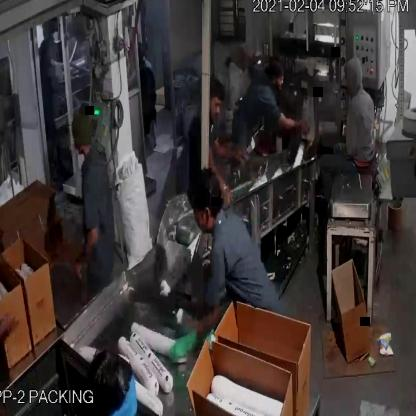glove: (171, 286, 218, 376)
no_glove: (67, 209, 99, 290), (200, 141, 232, 211), (212, 127, 258, 164), (275, 99, 316, 139), (0, 290, 23, 357)
